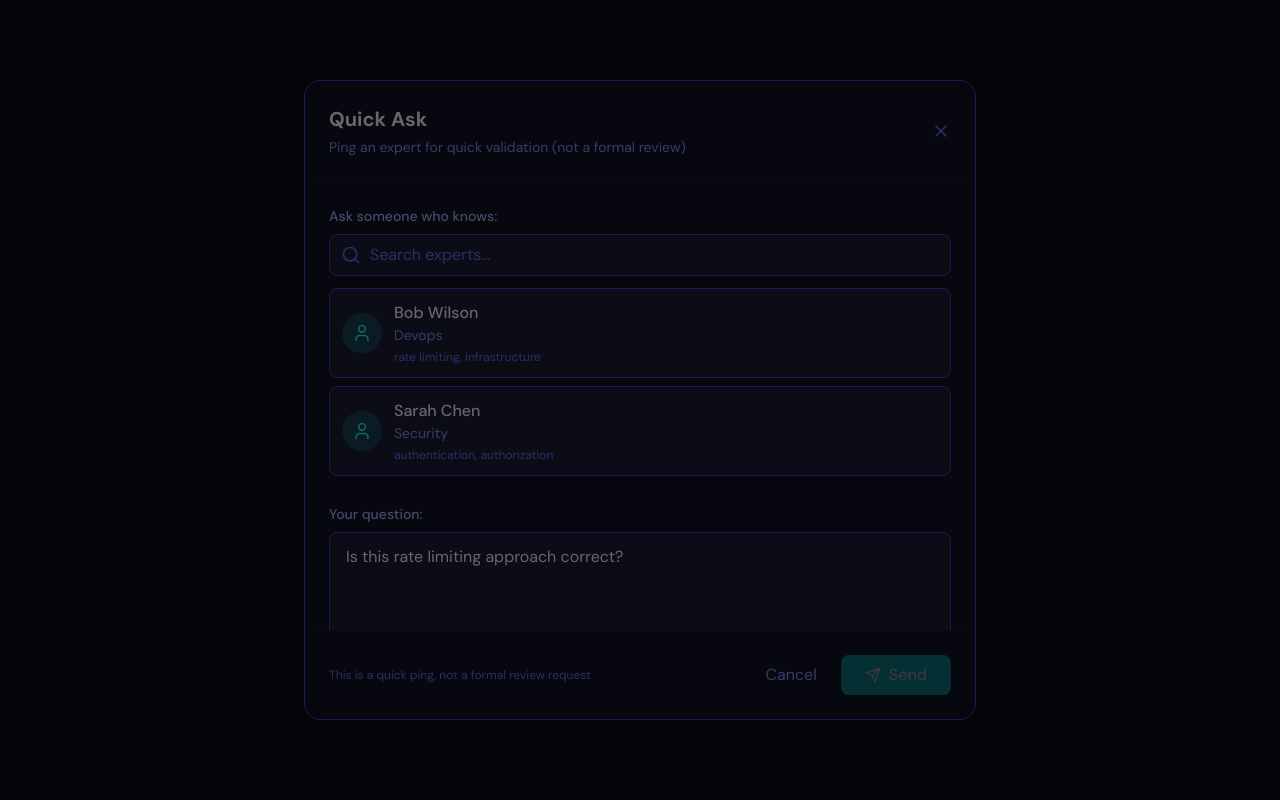
Test: ExpertAskModal › can search by domain
Type "security" into the field with placeholder "Search experts...". click: (640, 255)
box: [329,234,951,276]
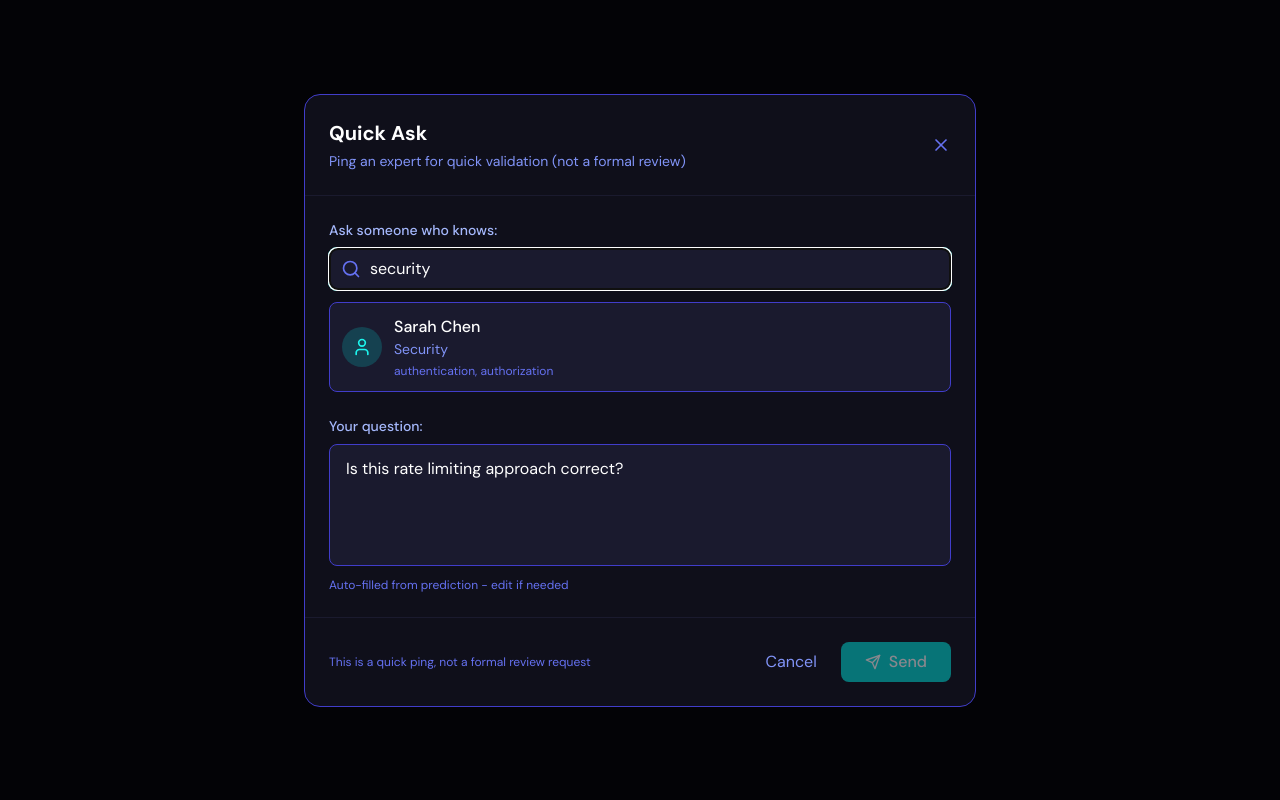
Expected: the text "Sarah Chen" is shown, [394,316,480,336]
Now the button "Bob Wilson" is gone
